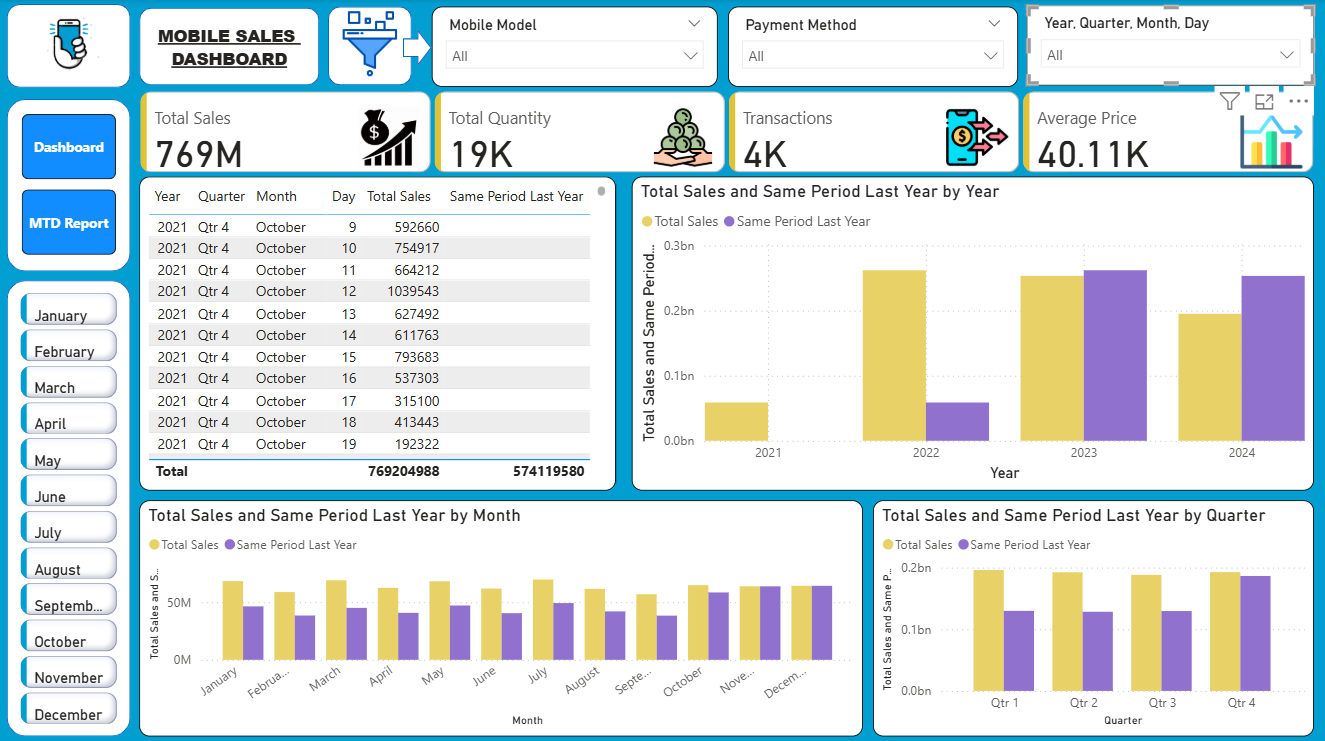

What the dashboard file says about the page in this screenshot:
{"tool":"powerbi","page":{"name":"Same Period Last Year ","canvas":[1280,720],"ordinal":2},"visuals":[{"type":"shape","box":[8.4,4.8,119.4,80.8],"z":0},{"type":"image","box":[8.4,7.2,119.4,76],"z":1000},{"type":"shape","box":[8.4,96.5,119.4,166.5],"z":2000},{"type":"cardVisual","fields":{"Data":["Mobile Sales Data.Total Sales","Mobile Sales Data.Total Quantity","Mobile Sales Data.Transactions","Mobile Sales Data.Average Price"]},"box":[132.7,84.5,1143.7,88.1],"z":3000},{"type":"slicer","fields":{"Values":["Mobile Sales Data.Mobile Model"]},"box":[418.6,7.2,276.3,77.2],"z":4000},{"type":"slicer","fields":{"Values":["Mobile Sales Data.Payment Method"]},"box":[704.6,7.2,279.9,77.2],"z":5000},{"type":"slicer","fields":{"Values":["Custom Calendar.Date.Variation.Date Hierarchy.Year","Custom Calendar.Date.Variation.Date Hierarchy.Quarter","Custom Calendar.Date.Variation.Date Hierarchy.Month","Custom Calendar.Date.Variation.Date Hierarchy.Day"]},"box":[992.9,6,277.5,77.2],"z":6000},{"type":"shape","box":[318.5,7.2,80.8,76],"z":7000},{"type":"image","box":[318.5,6,80.8,74.8],"z":8000},{"type":"shape","box":[390.9,29,27.7,36.2],"z":9000},{"type":"shape","box":[136.3,8.4,173.7,74.8],"z":10000},{"type":"textbox","box":[136.3,19.3,173.7,56.7],"z":11000},{"type":"shape","box":[8.4,271.4,119.4,440.4],"z":12000},{"type":"advancedSlicerVisual","fields":{"Values":["Custom Calendar.Date.Variation.Date Hierarchy.Month"]},"box":[16.9,278.7,103.8,427.1],"z":13000},{"type":"tableEx","fields":{"Values":["Custom Calendar.Date.Variation.Date Hierarchy.Year","Custom Calendar.Date.Variation.Date Hierarchy.Quarter","Custom Calendar.Date.Variation.Date Hierarchy.Month","Custom Calendar.Date.Variation.Date Hierarchy.Day","Mobile Sales Data.Total Sales","Mobile Sales Data.Same Period Last Year"]},"box":[136.3,171.3,459.7,302.8],"z":14000},{"type":"clusteredColumnChart","fields":{"Category":["Custom Calendar.Date.Variation.Date Hierarchy.Year","Custom Calendar.Date.Variation.Date Hierarchy.Quarter","Custom Calendar.Date.Variation.Date Hierarchy.Month","Custom Calendar.Date.Variation.Date Hierarchy.Day"],"Y":["Mobile Sales Data.Total Sales","Mobile Sales Data.Same Period Last Year"]},"box":[611.7,171.3,658.7,302.8],"z":14001},{"type":"clusteredColumnChart","fields":{"Category":["Custom Calendar.Date.Variation.Date Hierarchy.Year","Custom Calendar.Date.Variation.Date Hierarchy.Quarter","Custom Calendar.Date.Variation.Date Hierarchy.Month","Custom Calendar.Date.Variation.Date Hierarchy.Day"],"Y":["Mobile Sales Data.Total Sales","Mobile Sales Data.Same Period Last Year"]},"box":[136.3,483.8,698.5,228],"z":14002},{"type":"clusteredColumnChart","fields":{"Category":["Custom Calendar.Date.Variation.Date Hierarchy.Year","Custom Calendar.Date.Variation.Date Hierarchy.Quarter","Custom Calendar.Date.Variation.Date Hierarchy.Month","Custom Calendar.Date.Variation.Date Hierarchy.Day"],"Y":["Mobile Sales Data.Total Sales","Mobile Sales Data.Same Period Last Year"]},"box":[844.5,483.8,425.9,228],"z":14003},{"type":"pageNavigator","box":[22.9,111,91.7,137.5],"z":14004}]}

Visuals, with their boxes in screenshot pixels (x1, y1, x2, y2), scaled from the page's 1280x720 canvas onto the 1325x741 screenshot:
shape: region(9, 5, 132, 88)
image: region(9, 7, 132, 86)
shape: region(9, 99, 132, 271)
cardVisual - Mobile Sales Data.Total Sales x Mobile Sales Data.Total Quantity: region(137, 87, 1321, 178)
slicer - Mobile Sales Data.Mobile Model: region(433, 7, 719, 87)
slicer - Mobile Sales Data.Payment Method: region(729, 7, 1019, 87)
slicer - Custom Calendar.Date.Variation.Date Hierarchy.Year x Custom Calendar.Date.Variation.Date Hierarchy.Quarter: region(1028, 6, 1315, 86)
shape: region(330, 7, 413, 86)
image: region(330, 6, 413, 83)
shape: region(405, 30, 433, 67)
shape: region(141, 9, 321, 86)
textbox: region(141, 20, 321, 78)
shape: region(9, 279, 132, 733)
advancedSlicerVisual - Custom Calendar.Date.Variation.Date Hierarchy.Month: region(17, 287, 125, 726)
tableEx - Custom Calendar.Date.Variation.Date Hierarchy.Year x Custom Calendar.Date.Variation.Date Hierarchy.Quarter: region(141, 176, 617, 488)
clusteredColumnChart - Custom Calendar.Date.Variation.Date Hierarchy.Year x Custom Calendar.Date.Variation.Date Hierarchy.Quarter: region(633, 176, 1315, 488)
clusteredColumnChart - Custom Calendar.Date.Variation.Date Hierarchy.Year x Custom Calendar.Date.Variation.Date Hierarchy.Quarter: region(141, 498, 864, 733)
clusteredColumnChart - Custom Calendar.Date.Variation.Date Hierarchy.Year x Custom Calendar.Date.Variation.Date Hierarchy.Quarter: region(874, 498, 1315, 733)
pageNavigator: region(24, 114, 119, 256)
